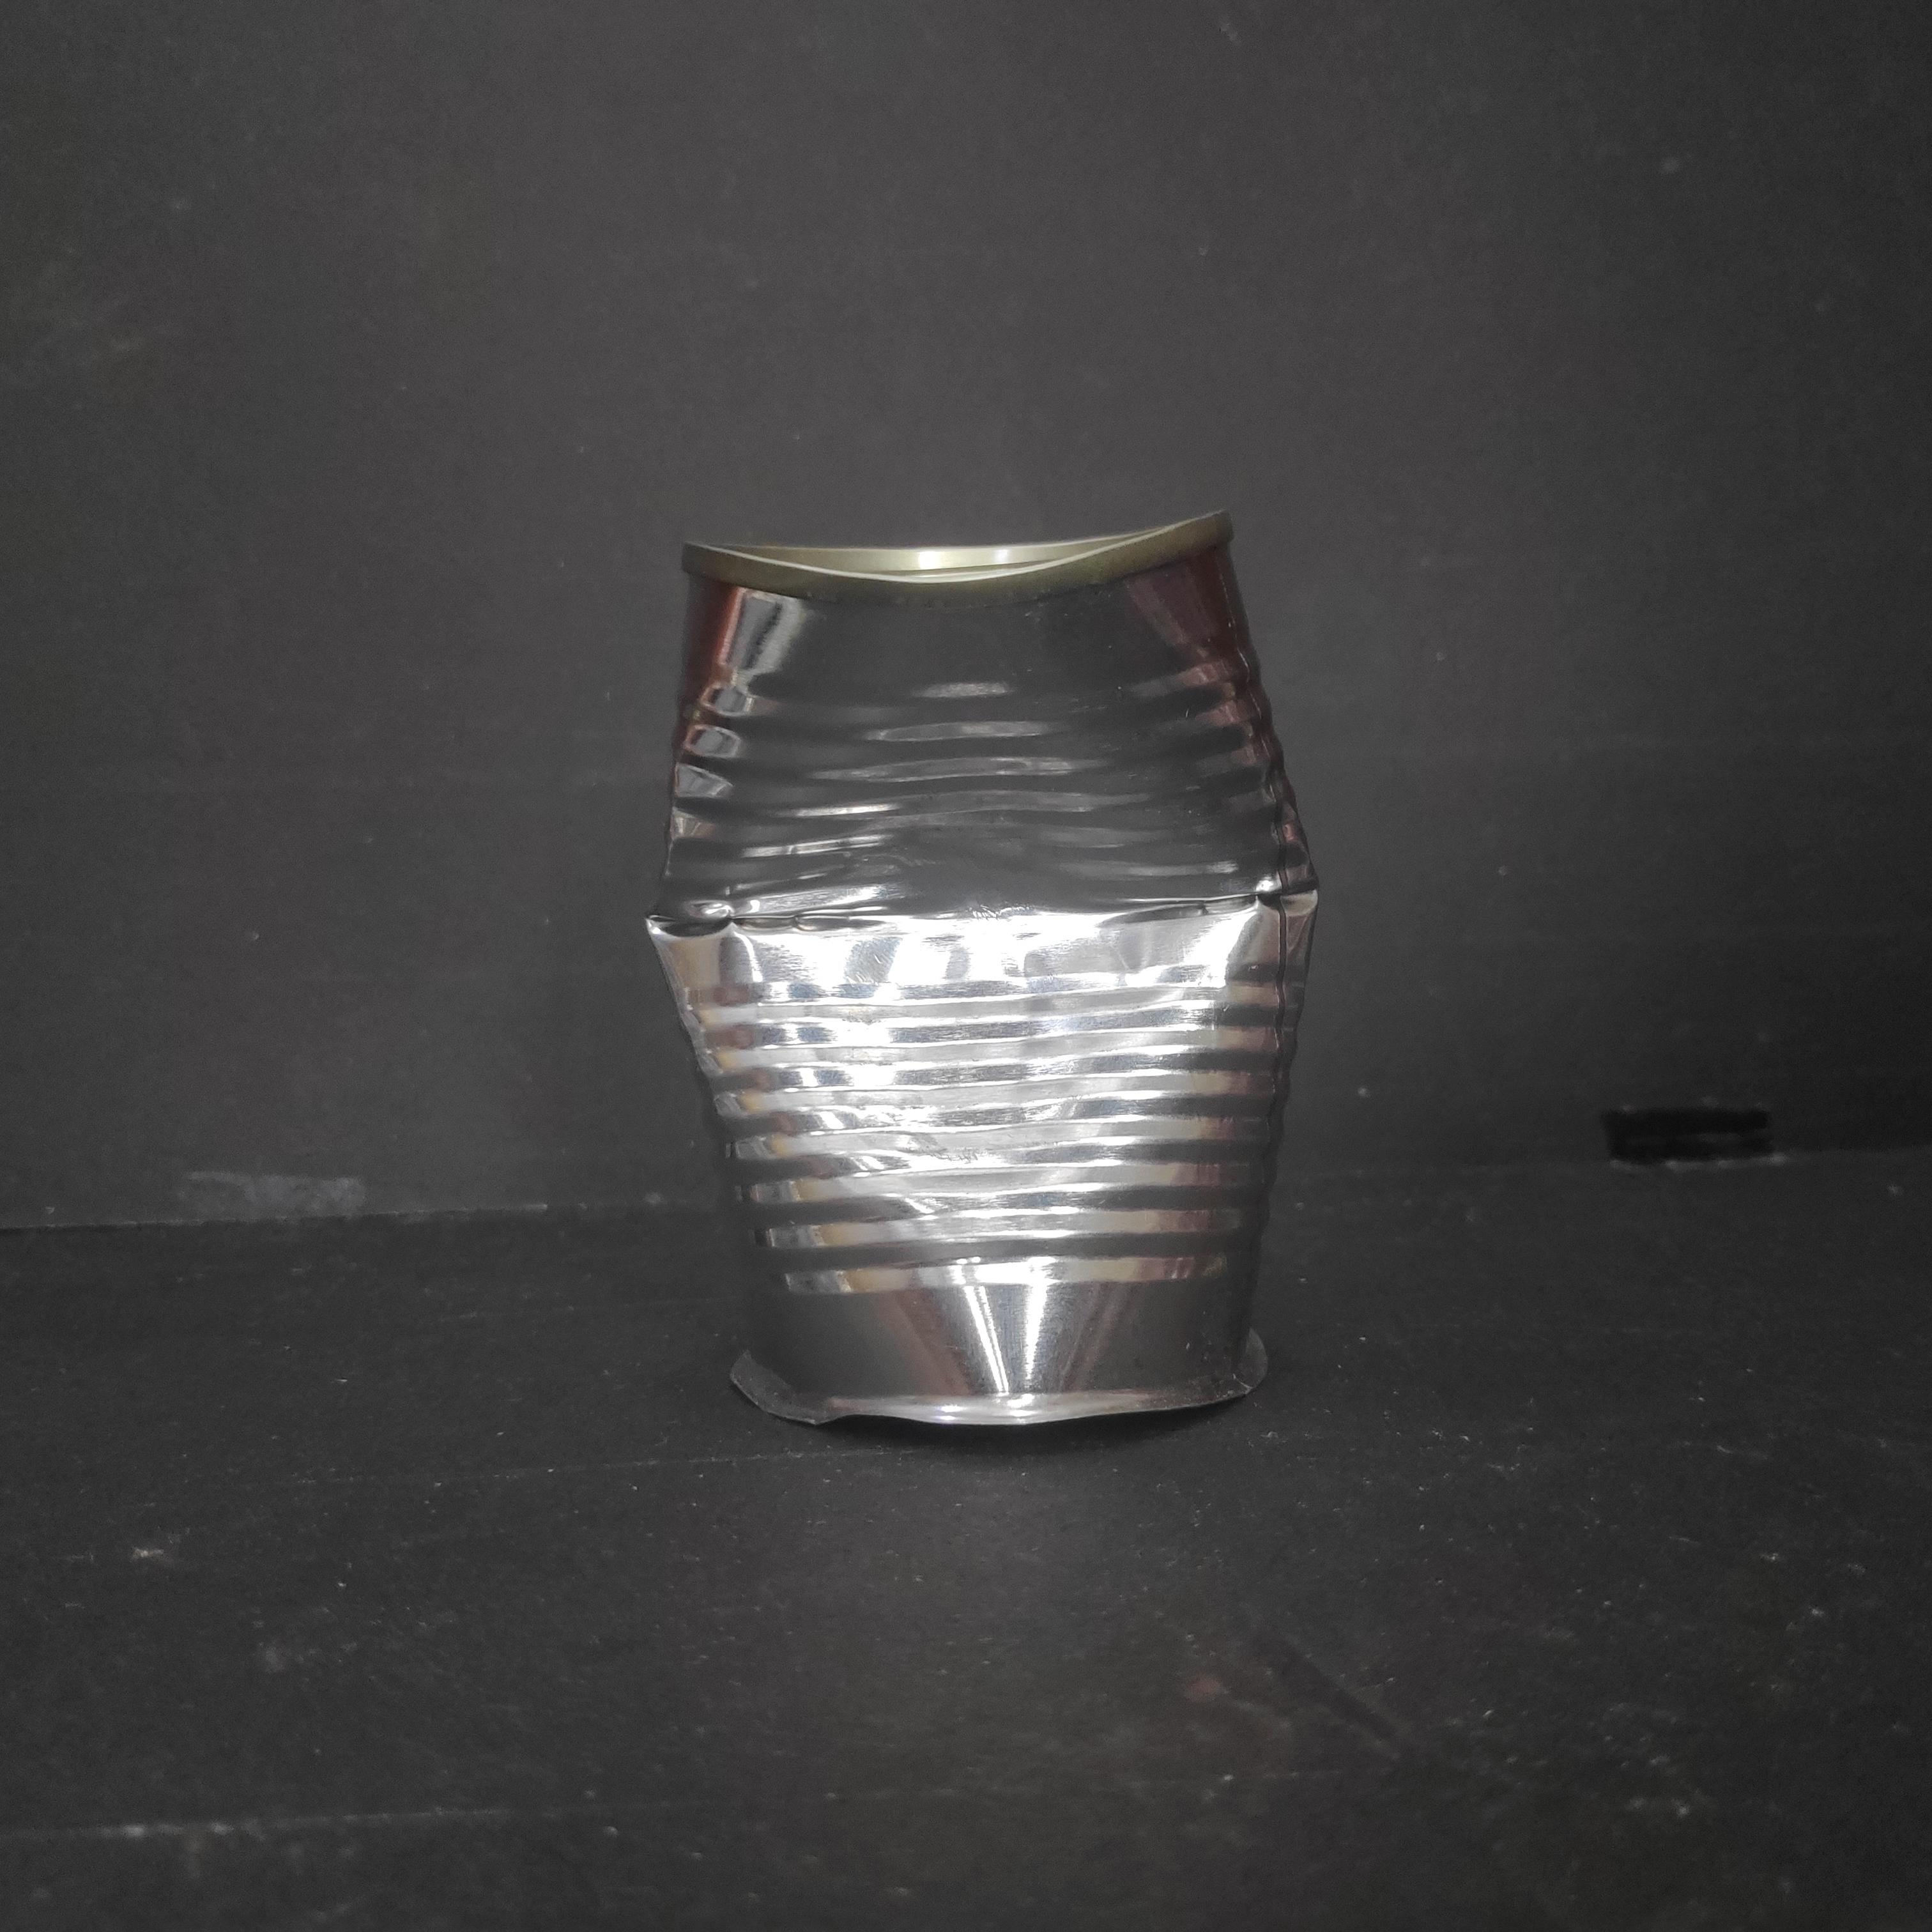Major Defect: (637, 495, 1327, 1438)
